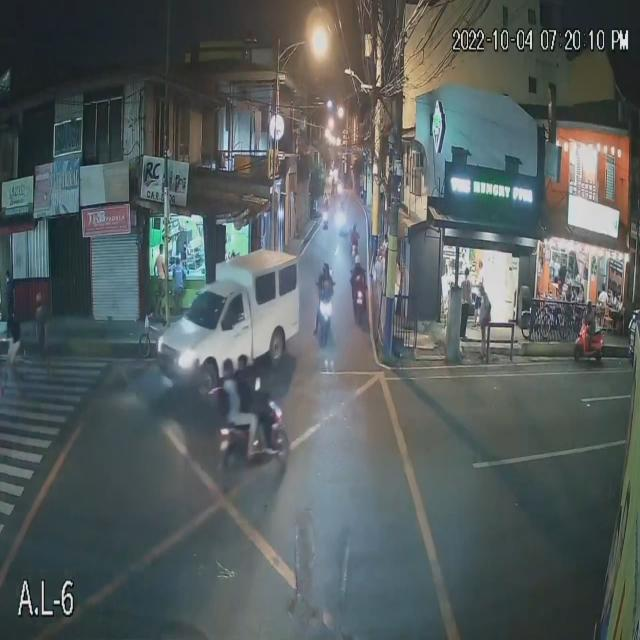Full-Faced: (222, 353, 236, 378), (322, 260, 334, 283), (237, 350, 248, 375), (354, 252, 361, 268), (351, 220, 358, 234)
